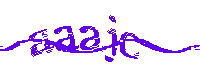a: (27, 26, 54, 57), (51, 23, 78, 54), (77, 22, 104, 53)
c: (120, 30, 143, 62)
j: (103, 15, 119, 64)
